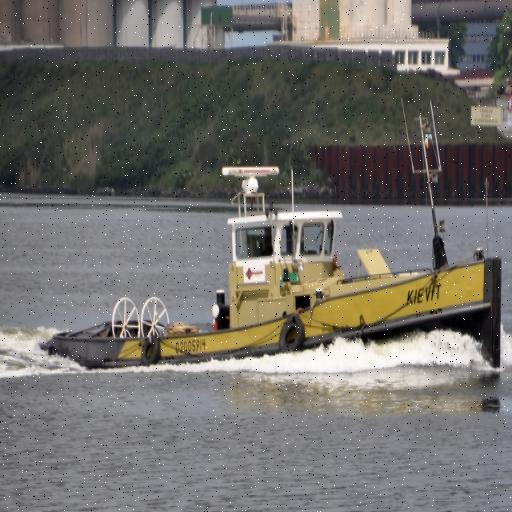tugboat: (38, 162, 512, 417)
